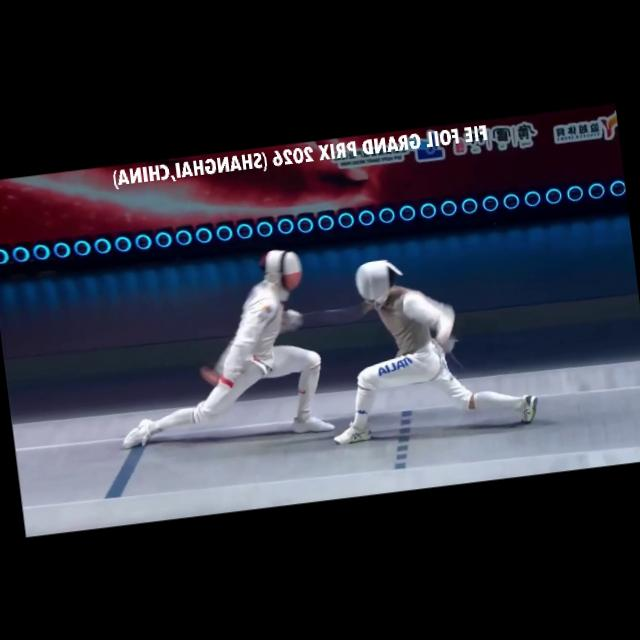blade: (288, 296, 370, 332)
